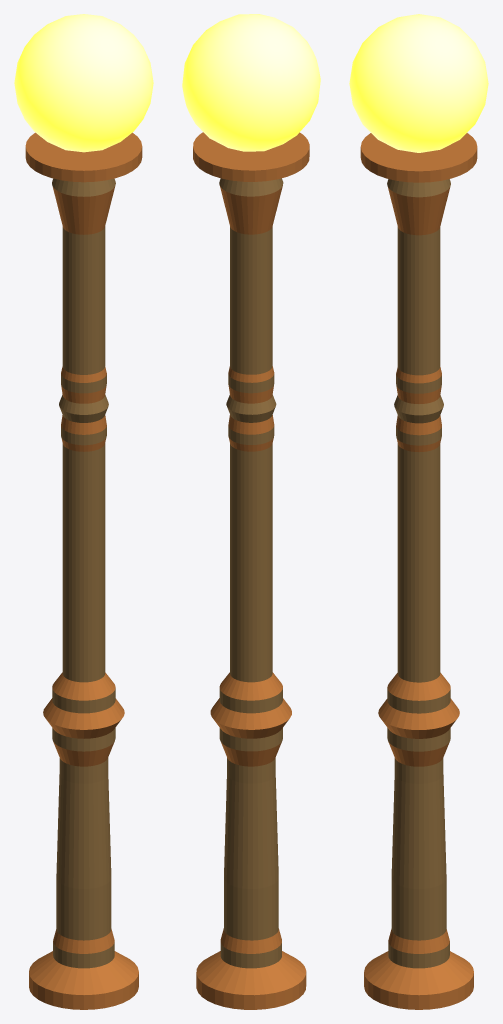
Rendered from LampPostModel03.fbx.
The picture shows the model from 3 angles, left to right: view 1: azimuth 90°, elevation 25°; view 2: azimuth 150°, elevation 25°; view 3: azimuth 270°, elevation 25°; orthographic projection.
Parts seen in each view (by area): view 1: LampPost03; view 2: LampPost03; view 3: LampPost03.
Boxes of the visible parts, x1,y1,x2,y2 form: LampPost03: (14,14,153,1009); LampPost03: (182,14,320,1009); LampPost03: (349,14,488,1009).
Bounding box in the file's own units: 94.95 × 727 × 94.95.
